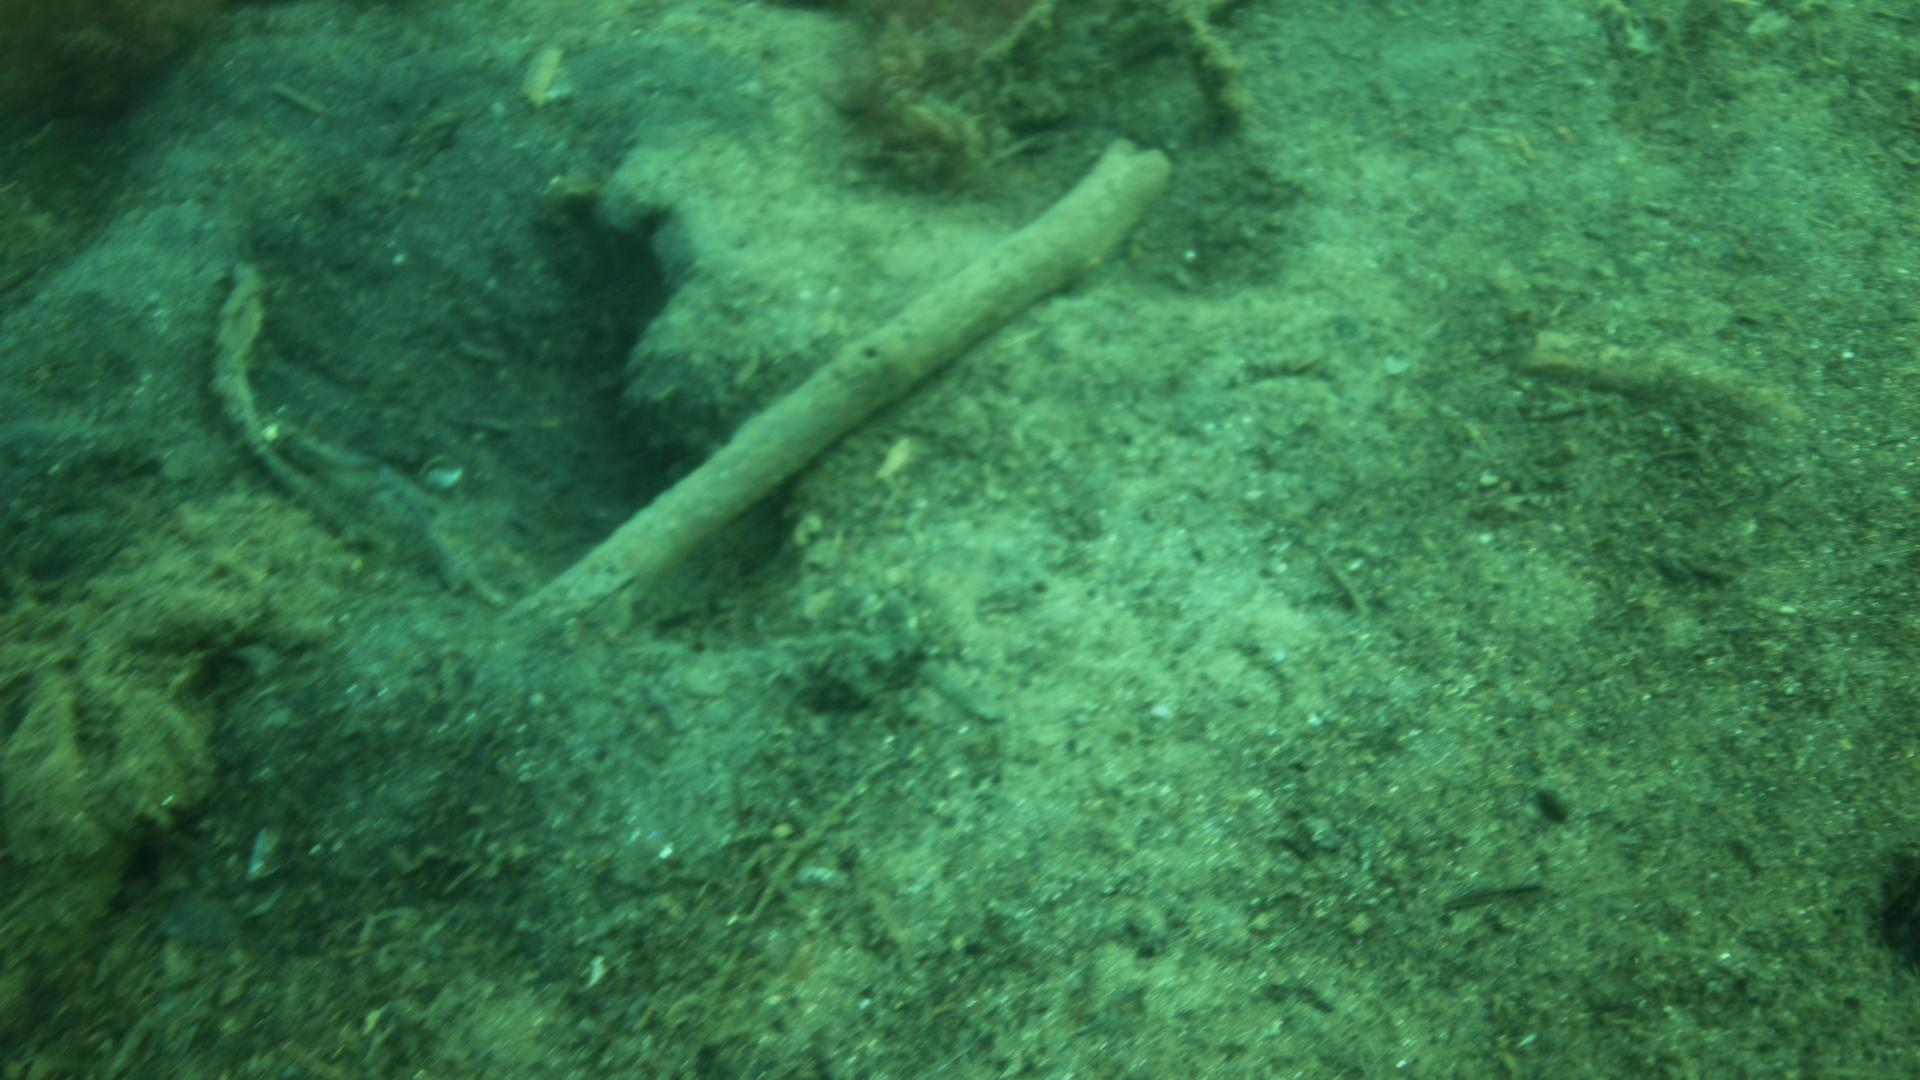wood: (517, 140, 1168, 607)
